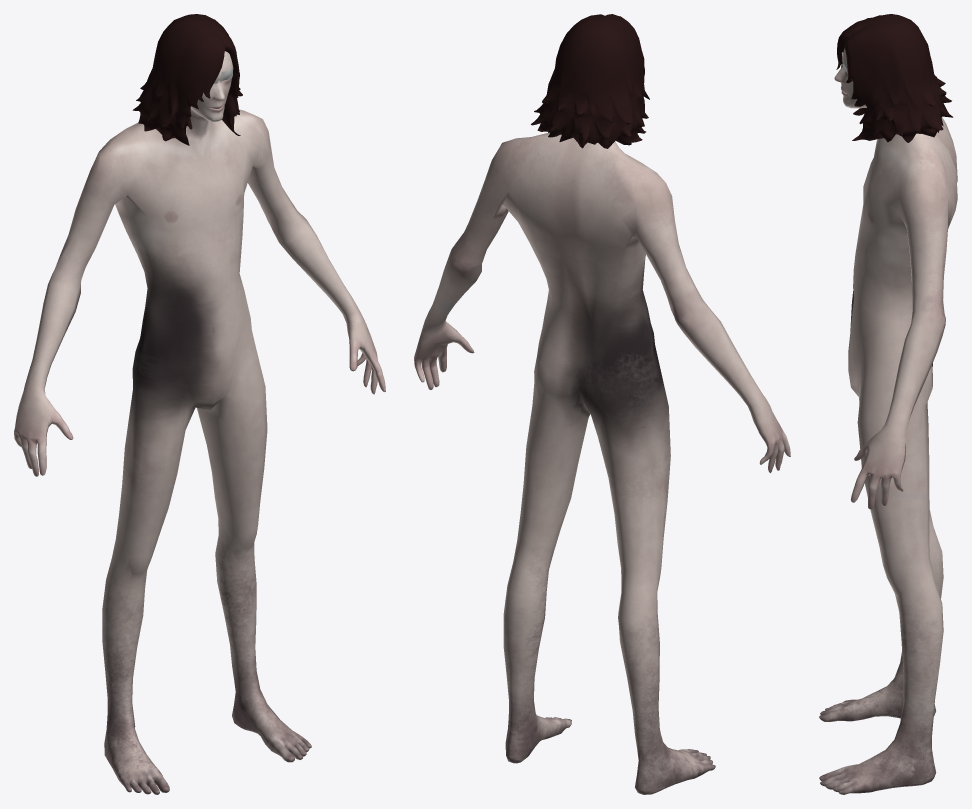
The model's file is Elios_Demo.fbx.
3 renders of one model, left to right at view 1: azimuth 30°, elevation 25°; view 2: azimuth 150°, elevation 25°; view 3: azimuth 270°, elevation 25°, orthographic.
Parts seen in each view (by area): view 1: Body, EliosHair; view 2: Body, EliosHair; view 3: Body, EliosHair.
Part boxes in pixels (<box>): Body: <box>14,51,385,794</box>; EliosHair: <box>132,14,242,145</box>; Body: <box>414,132,790,794</box>; EliosHair: <box>531,14,649,148</box>; Body: <box>819,48,957,794</box>; EliosHair: <box>836,14,953,142</box>.
Size of the model in its own units: 948 by 1877 by 321.
